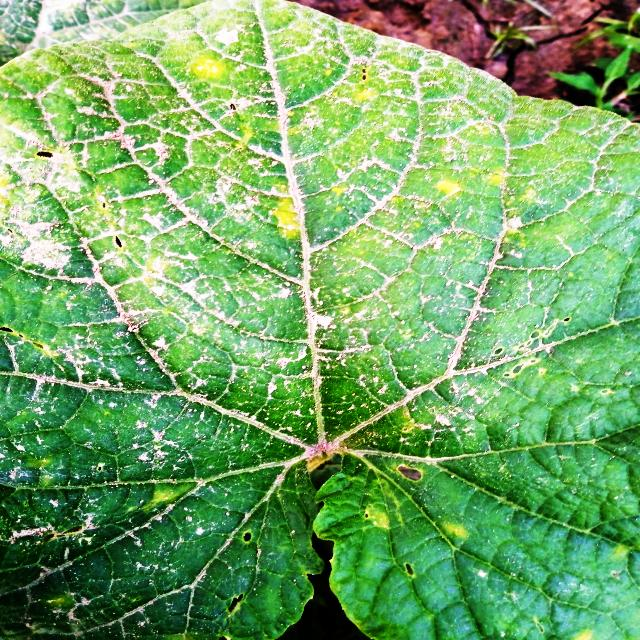Downy-Mildew: (85, 1, 622, 288)
